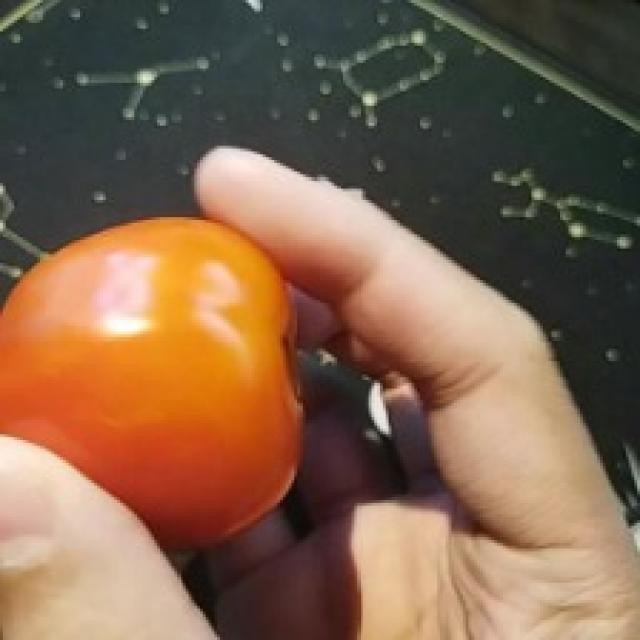Fresh Tomato: (10, 214, 309, 544)
